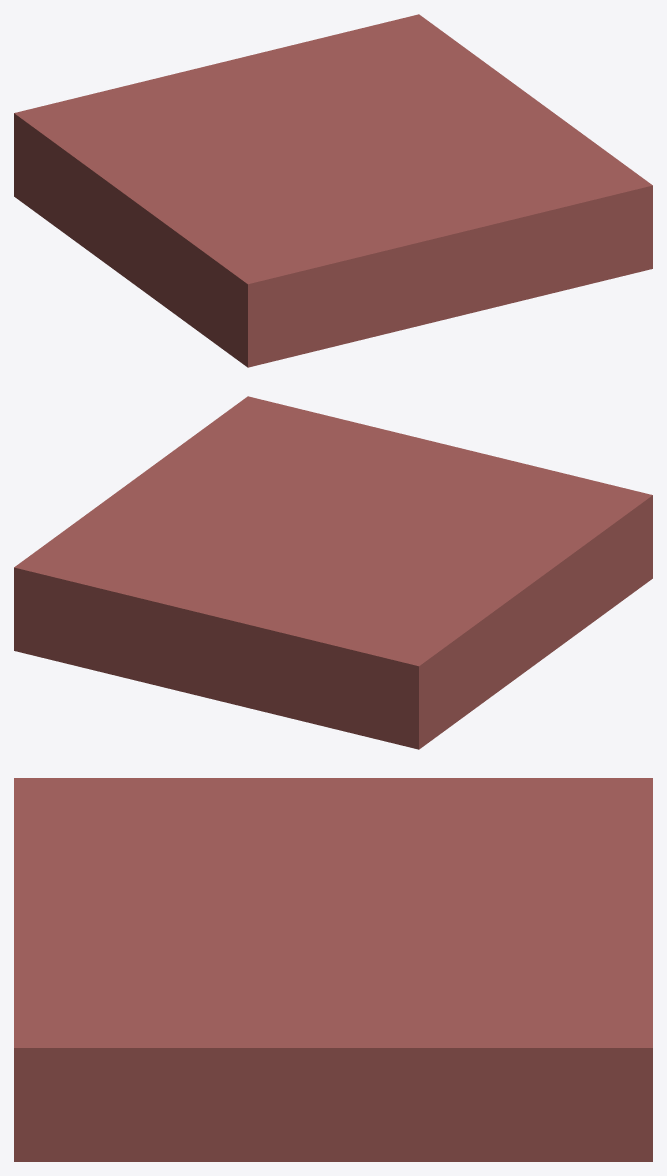
Rendered from Intercom.fbx.
3 views of the same model, one above another, from view 1: azimuth 30°, elevation 25°; view 2: azimuth 150°, elevation 25°; view 3: azimuth 270°, elevation 25° (orthographic). The views are drawn at different scales.
Visible parts, largest first — view 1: Cube; view 2: Cube; view 3: Cube.
Boxes of the visible parts, left/top/right/bottom form: Cube: left=14, top=14, right=652, bottom=367; Cube: left=14, top=396, right=652, bottom=749; Cube: left=14, top=778, right=652, bottom=1161.
Bounding box in the file's own units: 254 × 50 × 254.
